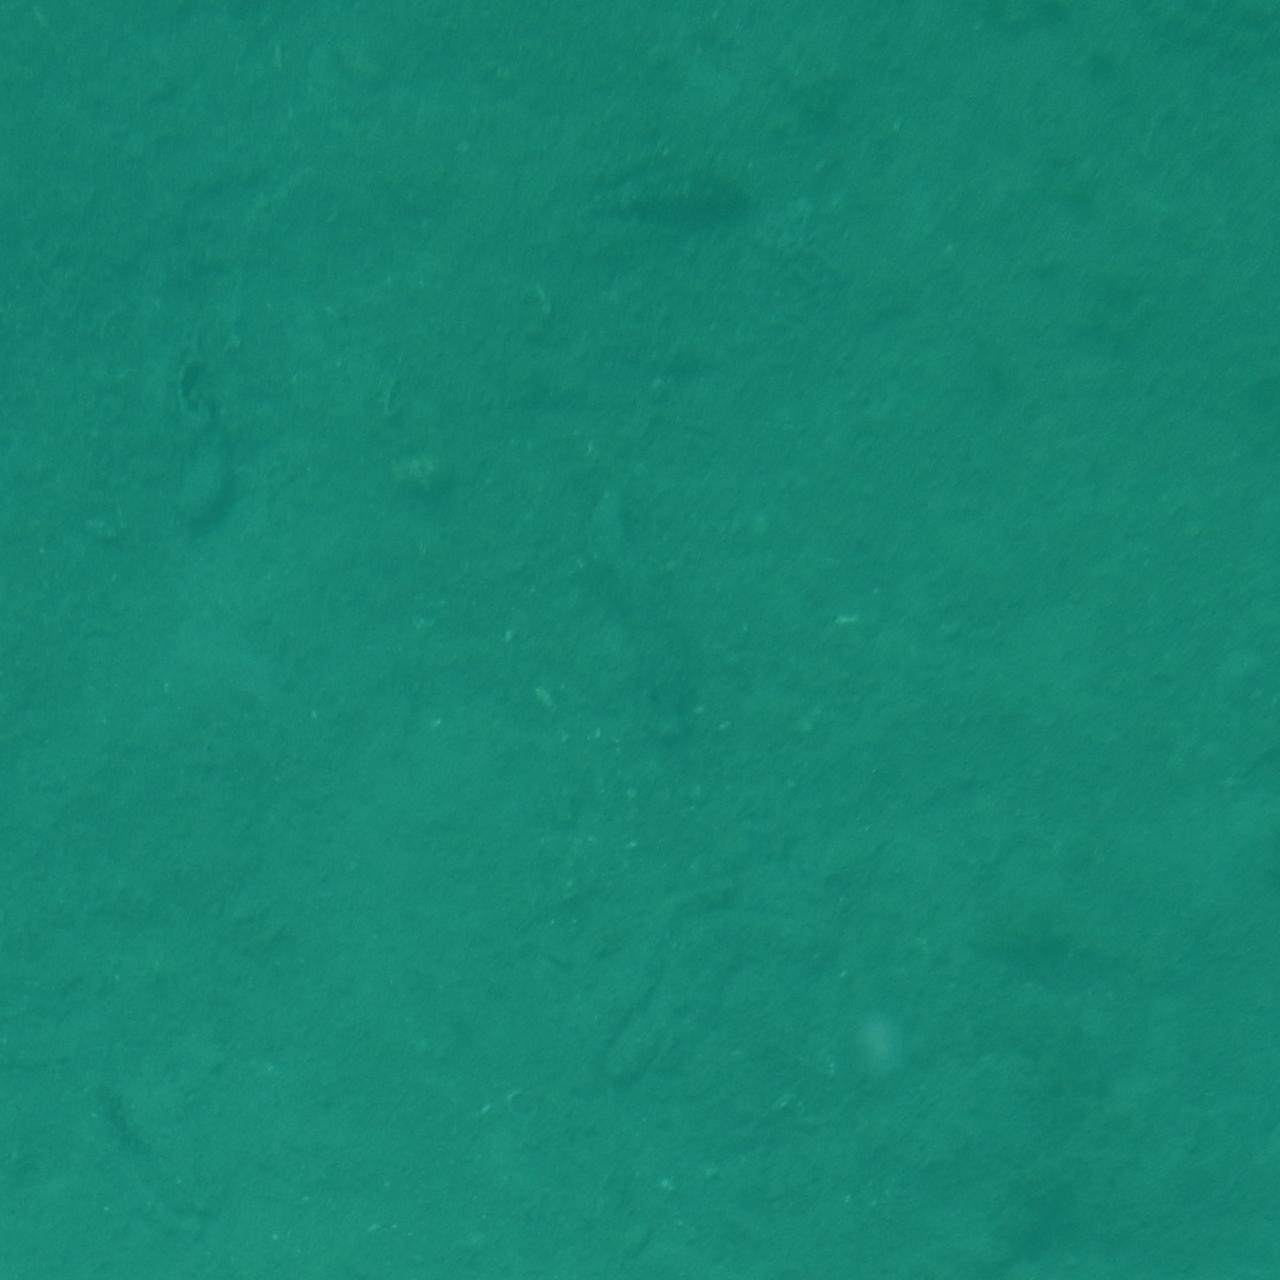Holothuria tubulosa: (570, 532, 710, 748)
